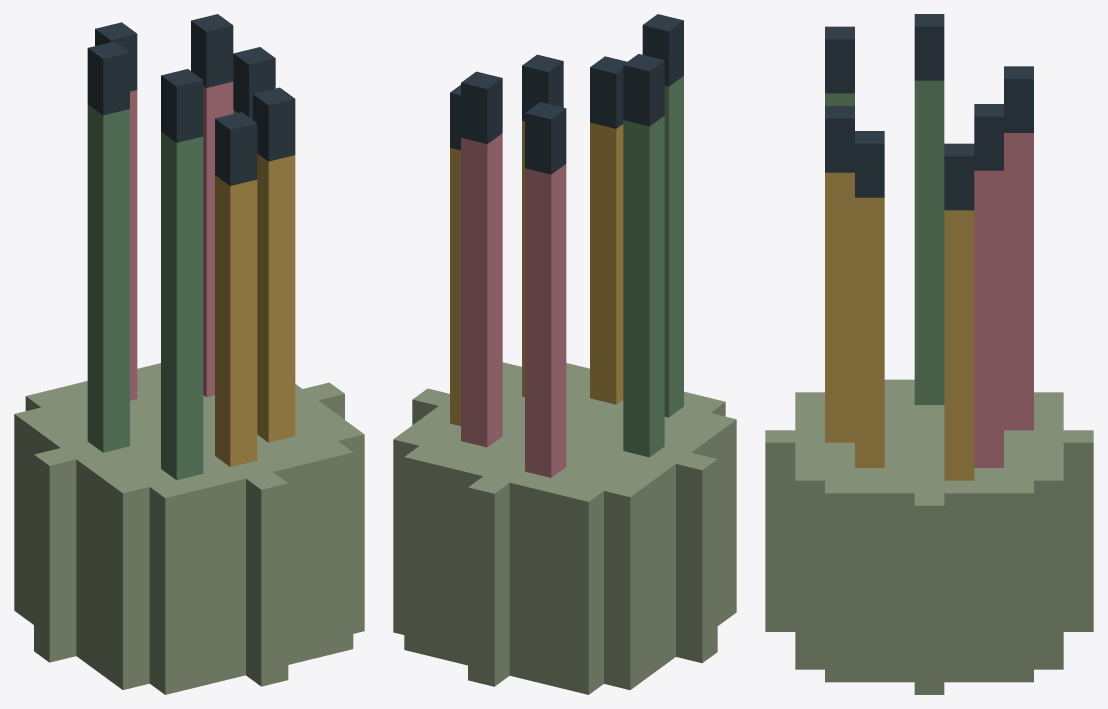
Rendered from productivity-10.glb.
The picture shows the model from 3 angles, left to right: view 1: azimuth 30°, elevation 25°; view 2: azimuth 150°, elevation 25°; view 3: azimuth 270°, elevation 25°; orthographic projection. The views are drawn at different scales.
Parts seen in each view (by area): view 1: Pencil cup; view 2: Pencil cup; view 3: Pencil cup.
Part boxes in pixels (x1=…): Pencil cup: x1=14, y1=14, x2=364, y2=694; Pencil cup: x1=393, y1=14, x2=736, y2=694; Pencil cup: x1=765, y1=14, x2=1093, y2=694.
Size of the model in its own units: 0.88 by 1.68 by 0.88.
